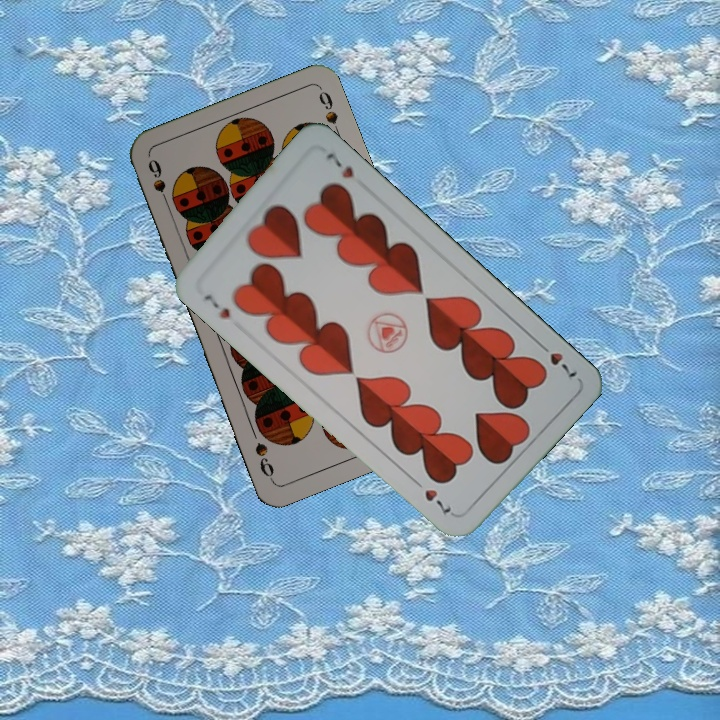H7: (532, 337, 580, 381), (199, 290, 233, 322)
S9: (144, 155, 173, 212)
